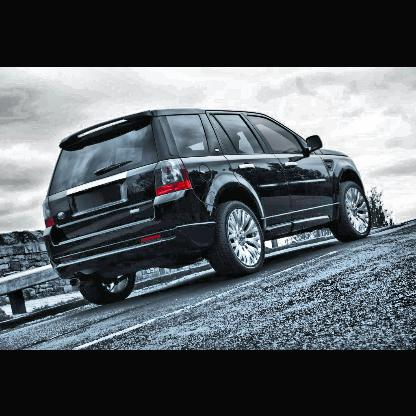Land Rover LR2 SUV 2012: (43, 108, 372, 302)
